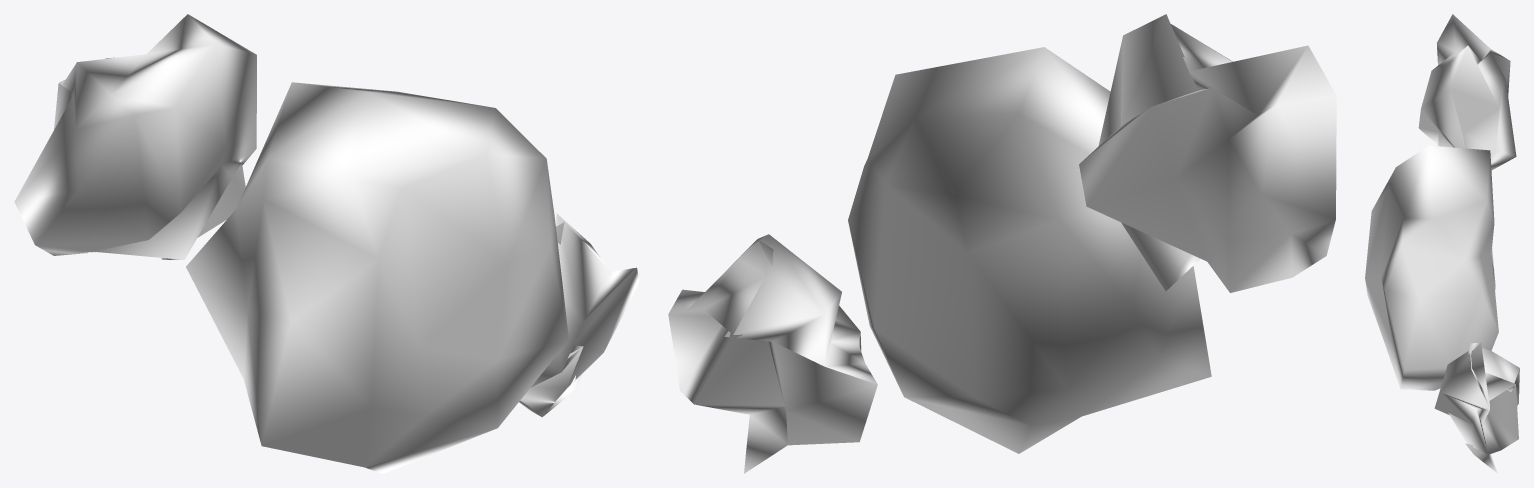
File: SM_Rock_Cluster_A.glb
3 renders of one model, left to right at view 1: azimuth 30°, elevation 25°; view 2: azimuth 150°, elevation 25°; view 3: azimuth 270°, elevation 25°, orthographic. The views are drawn at different scales.
Visible parts, largest first — view 1: asset_rock_cluster_a; view 2: asset_rock_cluster_a; view 3: asset_rock_cluster_a.
Boxes of the visible parts, x1,y1,x2,y2 form: asset_rock_cluster_a: (14,14,639,473); asset_rock_cluster_a: (668,14,1336,473); asset_rock_cluster_a: (1365,14,1519,473).
Bounding box in the file's own units: 1.71 × 1.33 × 0.5919.
Materials: 1 (1 with a texture image).
